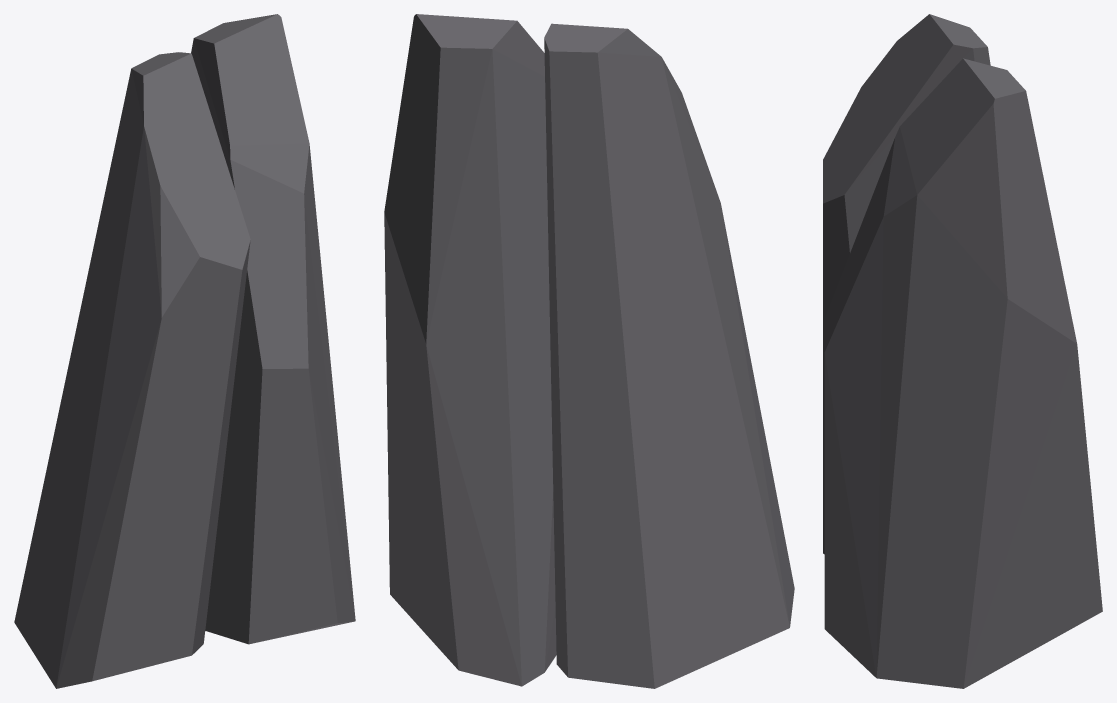
Rendered from Rock_Sharp_m_15.fbx.
3 renders of one model, left to right at view 1: azimuth 30°, elevation 25°; view 2: azimuth 150°, elevation 25°; view 3: azimuth 270°, elevation 25°, orthographic. The views are drawn at different scales.
Parts seen in each view (by area): view 1: Rock_Sharp_m_15; view 2: Rock_Sharp_m_15; view 3: Rock_Sharp_m_15.
Part boxes in pixels (<box>): Rock_Sharp_m_15: <box>14,14,355,688</box>; Rock_Sharp_m_15: <box>384,14,794,688</box>; Rock_Sharp_m_15: <box>823,14,1102,688</box>.
Size of the model in its own units: 0.8973 by 1.5 by 0.6619.
